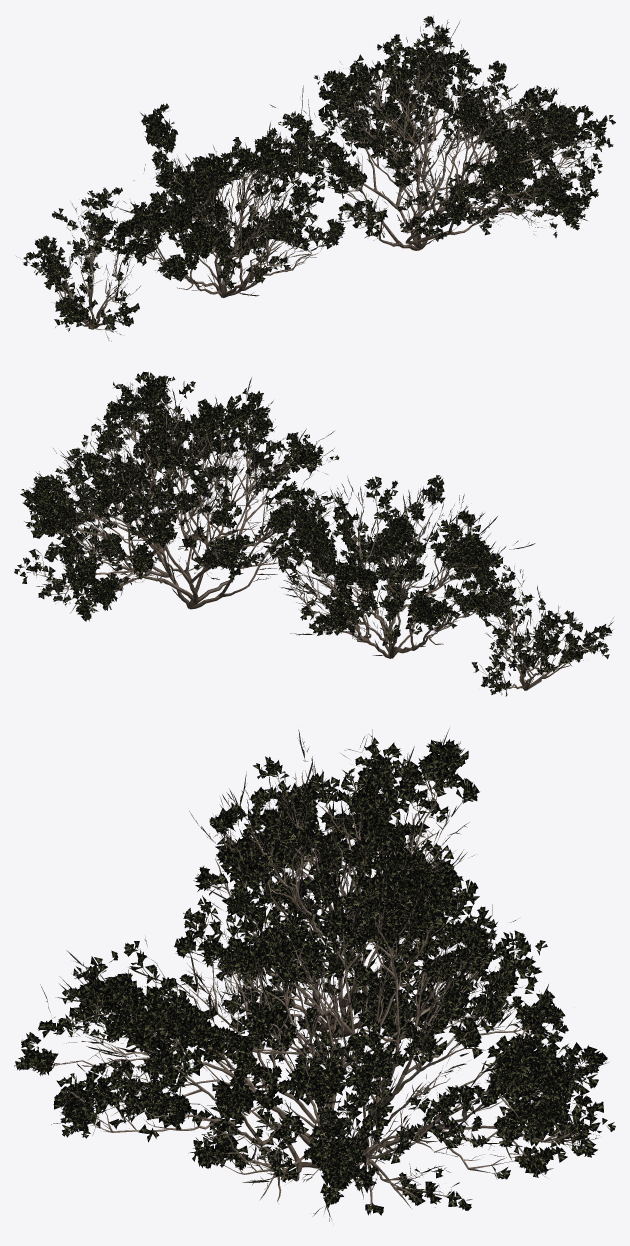
File: searsia_burchellii_lod.glb
3 views of the same model, one above another, from view 1: azimuth 30°, elevation 25°; view 2: azimuth 150°, elevation 25°; view 3: azimuth 270°, elevation 25° (orthographic). The views are drawn at different scales.
Visible parts, largest first — view 1: searsia_burchellii_large_LOD0, searsia_burchellii_medium_LOD0, searsia_burchellii_small_LOD0; view 2: searsia_burchellii_large_LOD0, searsia_burchellii_medium_LOD0, searsia_burchellii_small_LOD0; view 3: searsia_burchellii_large_LOD0, searsia_burchellii_medium_LOD0, searsia_burchellii_small_LOD0.
Boxes of the visible parts, left/top/right/bottom form: searsia_burchellii_large_LOD0: left=269, top=15, right=615, bottom=250; searsia_burchellii_medium_LOD0: left=110, top=103, right=351, bottom=297; searsia_burchellii_small_LOD0: left=16, top=187, right=140, bottom=341; searsia_burchellii_large_LOD0: left=14, top=371, right=339, bottom=621; searsia_burchellii_medium_LOD0: left=277, top=475, right=535, bottom=658; searsia_burchellii_small_LOD0: left=462, top=555, right=613, bottom=696; searsia_burchellii_large_LOD0: left=14, top=855, right=615, bottom=1221; searsia_burchellii_medium_LOD0: left=175, top=728, right=479, bottom=1060; searsia_burchellii_small_LOD0: left=217, top=729, right=463, bottom=933.
Size of the model in its own units: 8.33 by 3.21 by 5.03.
Materials: 3 (3 with a texture image).
